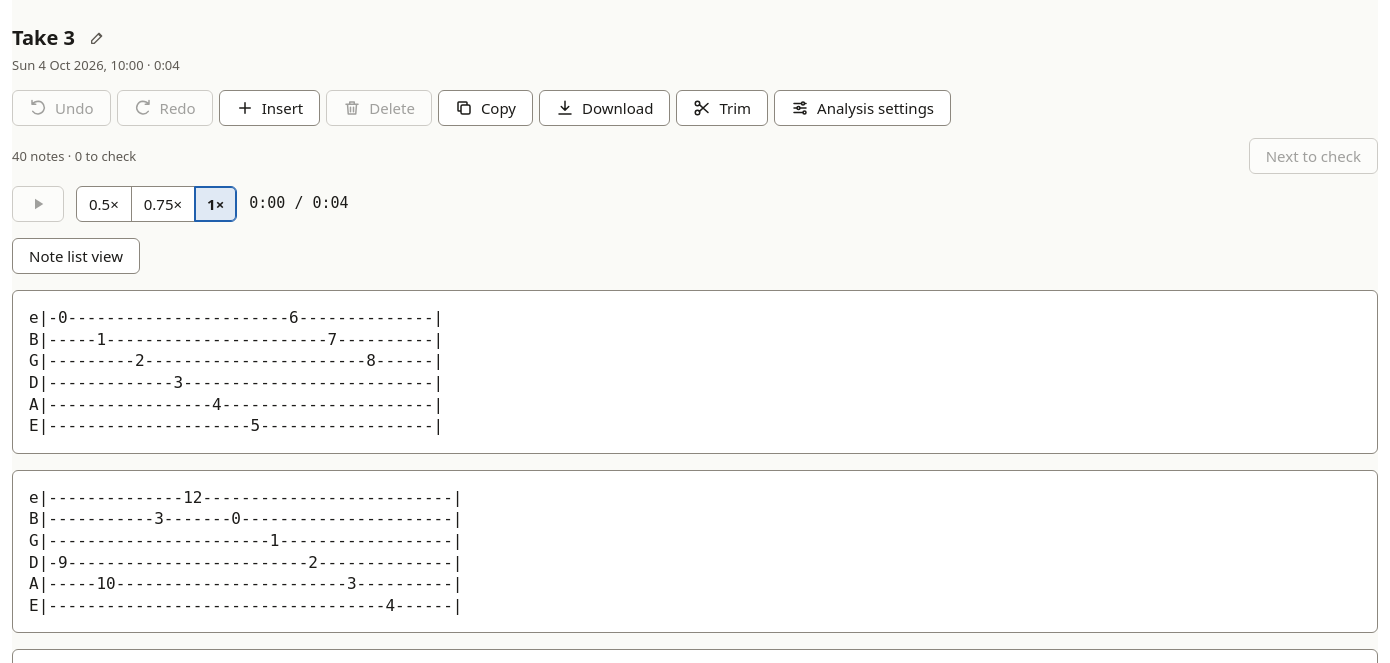
it: Tab screen tab area, header and selection › analysis settings and re-analysis › a raw file but no compressed audio: Re-analyse enabled
This screenshot has width=1390, height=663.
Click the button "Analysis settings": (863, 108) left=774, top=90, right=951, bottom=126
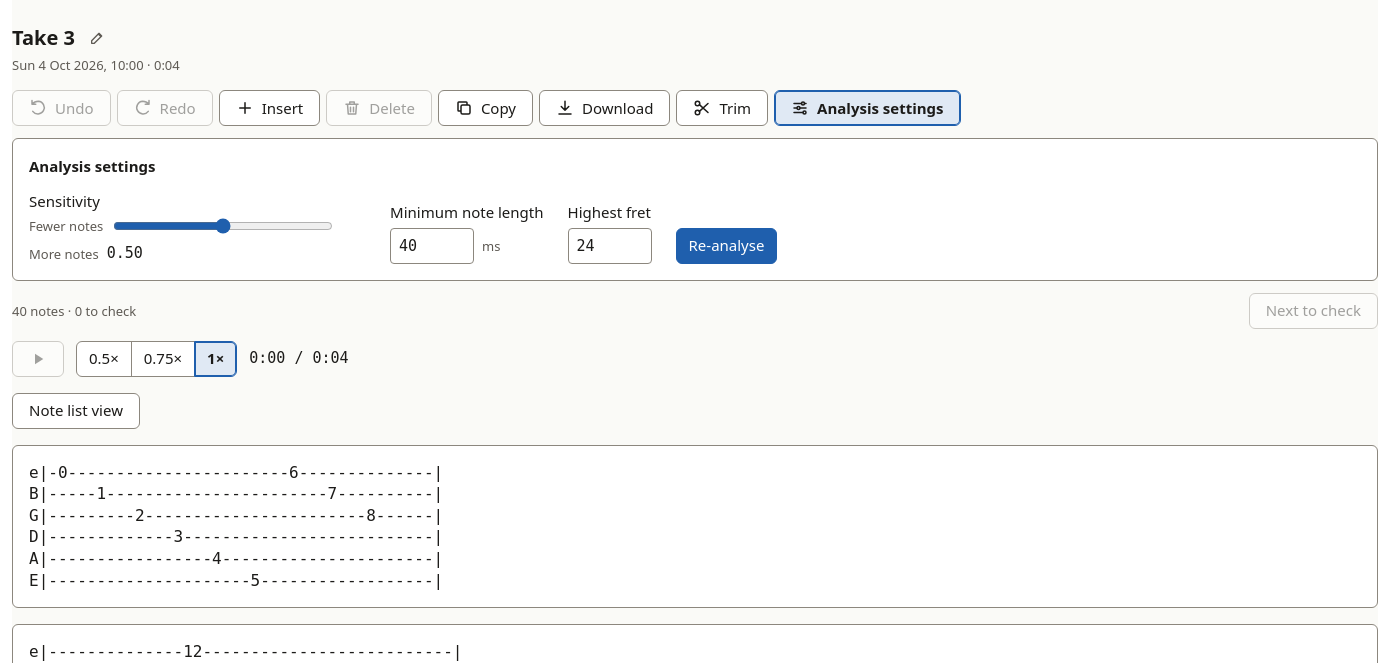
Result: the button "Re-analyse" is enabled at left=676, top=228, right=777, bottom=264
